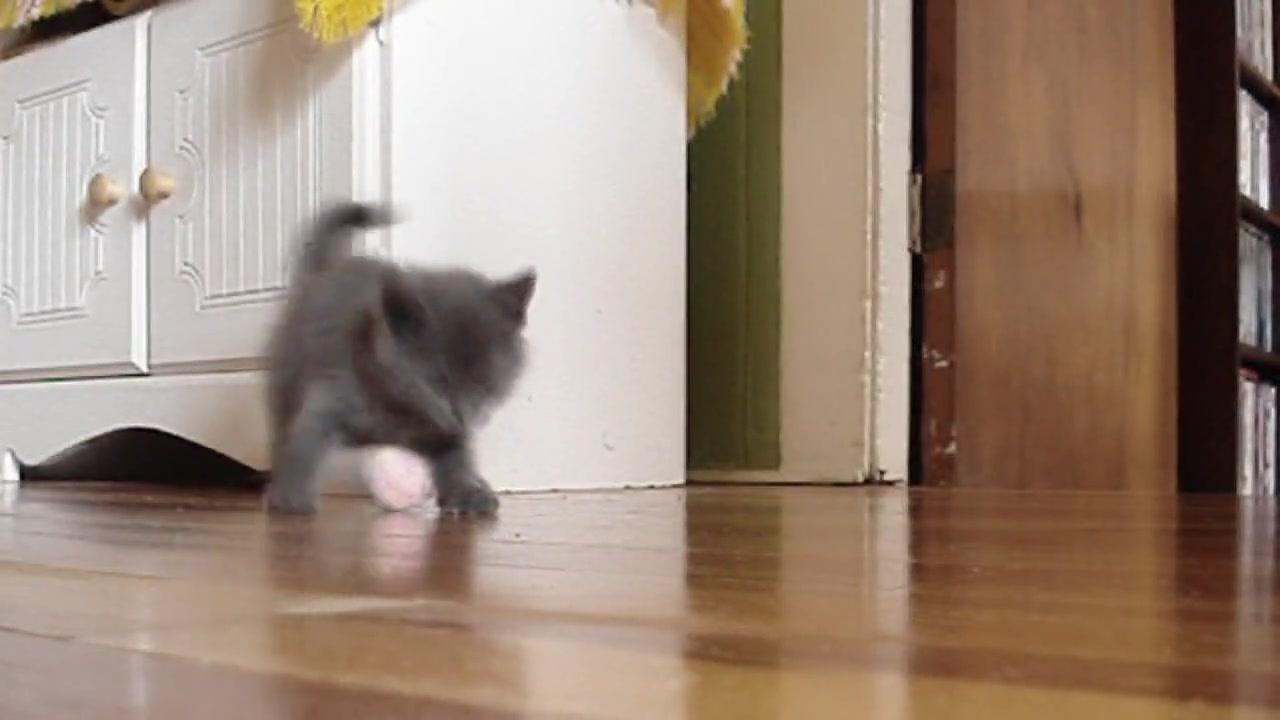cat: (262, 199, 542, 526)
